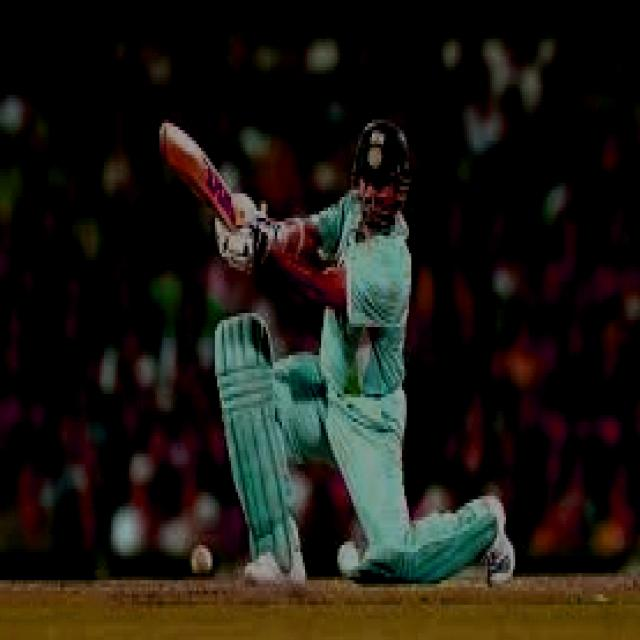toe: (158, 122, 186, 170)
